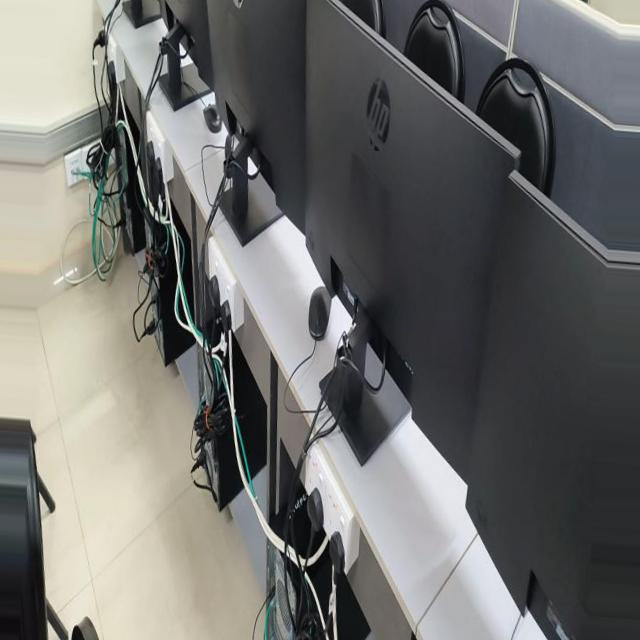Chair: (483, 60, 574, 187), (0, 437, 33, 639), (399, 11, 468, 105), (323, 0, 376, 49), (59, 614, 93, 639)
Cpu: (276, 472, 399, 639), (192, 319, 269, 509), (116, 213, 182, 377), (75, 131, 121, 277)
Monitor: (285, 4, 534, 458), (494, 171, 640, 639), (171, 0, 296, 257), (111, 0, 186, 136), (80, 0, 123, 60)
Mouse: (307, 288, 331, 339), (177, 127, 198, 153), (203, 153, 213, 179)
